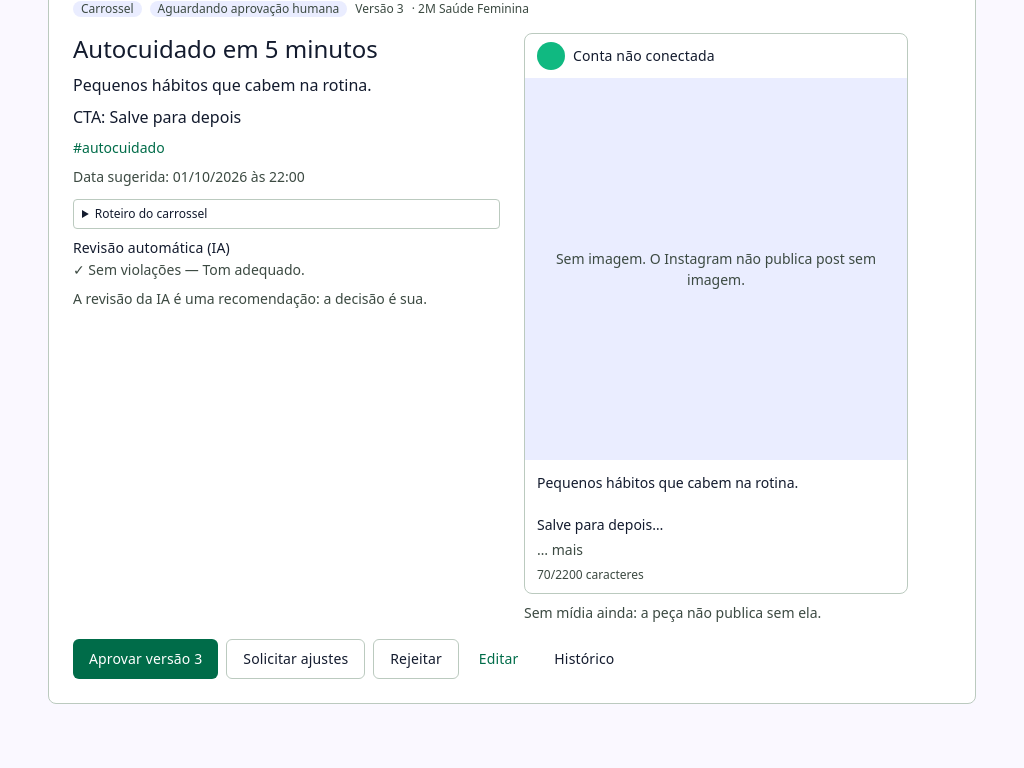
compara versões campo a campo e não iguala mídia pelo nome
(page scrolled)
Click the button "Histórico" at (584,659), box [538,639,630,679]
(page scrolled)
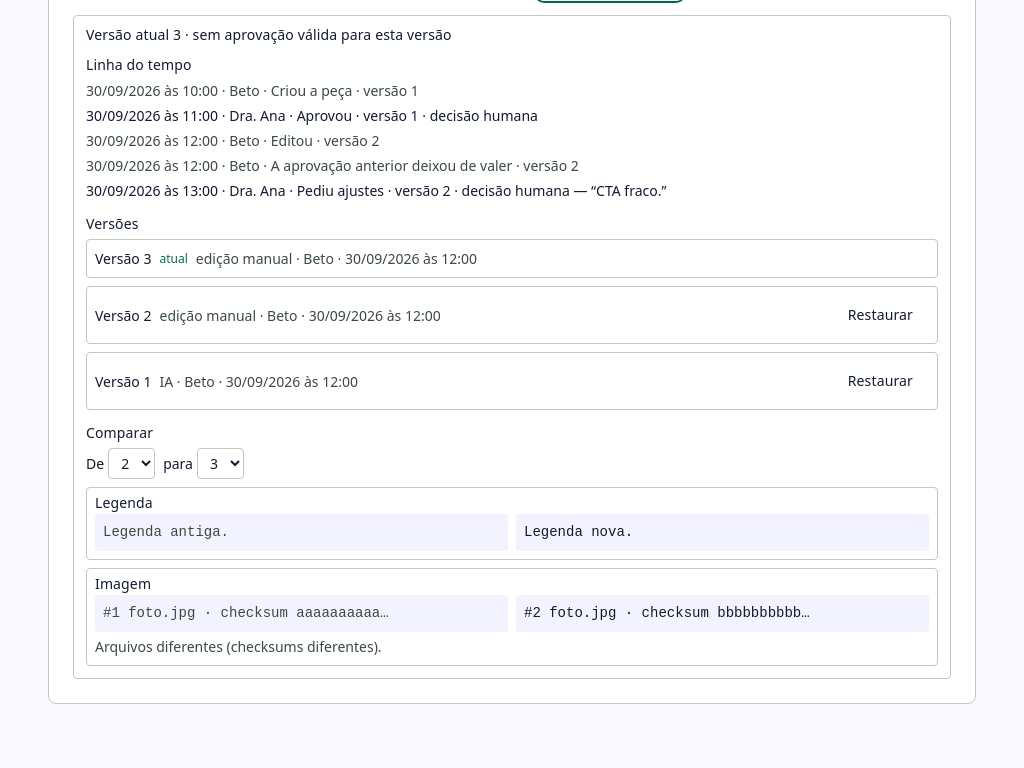
Result: the dropdown named "Versão de origem" shows "2" at [108,448,155,479]
Result: the dropdown named "Versão de destino" shows "3" at [197,448,244,479]
Result: the text "Legenda nova." is shown at [516,514,929,551]
